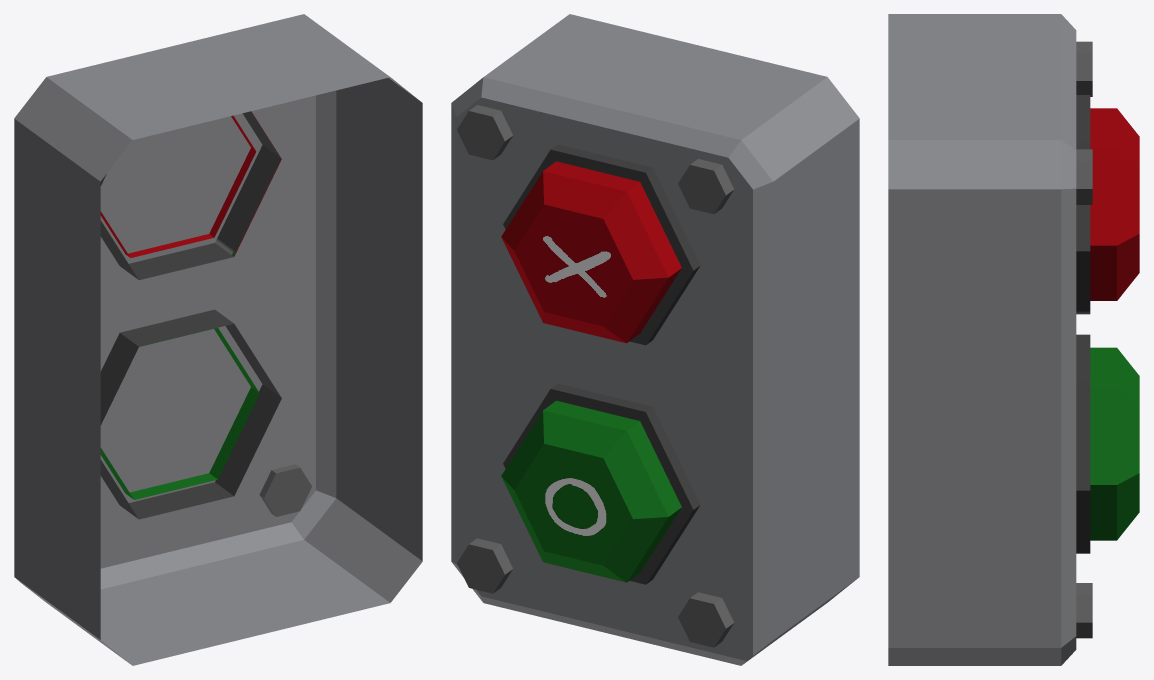
Rendered from officeDoorButton.fbx.
The picture shows the model from 3 angles, left to right: view 1: azimuth 30°, elevation 25°; view 2: azimuth 150°, elevation 25°; view 3: azimuth 270°, elevation 25°; orthographic projection.
Parts seen in each view (by area): view 1: panel, polySurface5 (×2), polySurface6 (×2); view 2: panel, polySurface6 (×2), polySurface5 (×2); view 3: panel, polySurface6 (×2), polySurface5 (×2).
Part boxes in pixels (x1=…): panel: x1=14, y1=14, x2=422, y2=665; polySurface5 (×2): x1=100, y1=111, x2=281, y2=519; polySurface6 (×2): x1=100, y1=115, x2=259, y2=499; panel: x1=451, y1=14, x2=859, y2=665; polySurface6 (×2): x1=501, y1=161, x2=681, y2=582; polySurface5 (×2): x1=503, y1=144, x2=700, y2=584; panel: x1=888, y1=14, x2=1092, y2=665; polySurface6 (×2): x1=1090, y1=108, x2=1139, y2=540; polySurface5 (×2): x1=1076, y1=95, x2=1090, y2=553.
Bounding box in the file's own units: 0.4764 × 0.7429 × 0.3213.
1 material, 1 textured.
